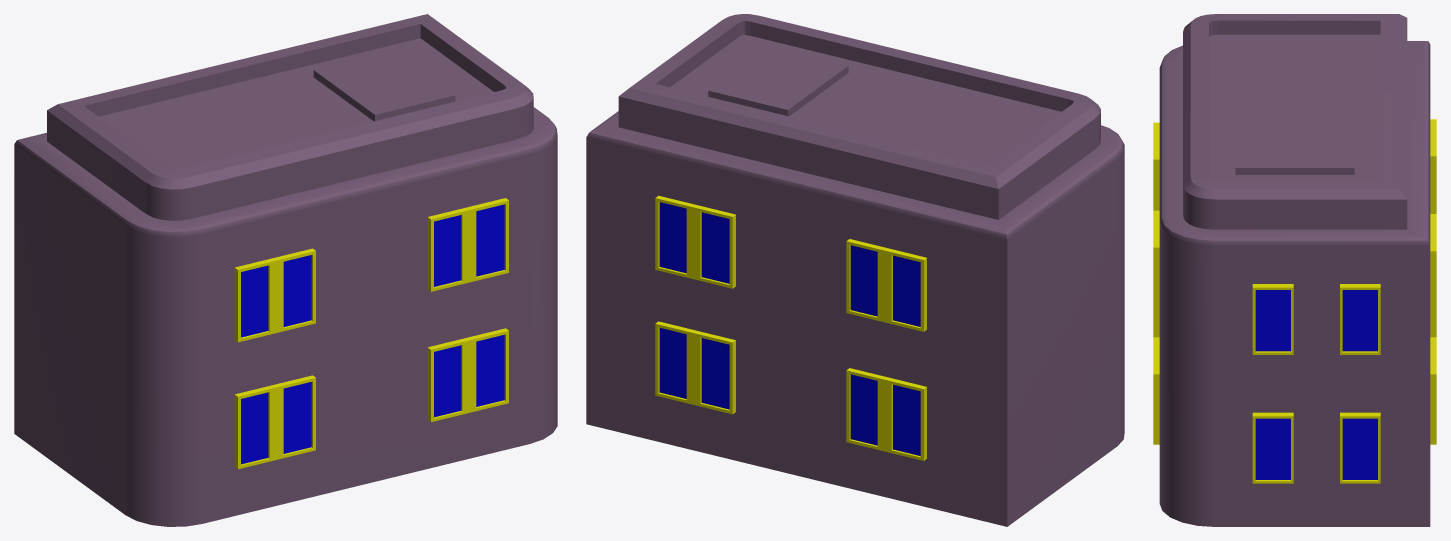
3 renders of one model, left to right at view 1: azimuth 30°, elevation 25°; view 2: azimuth 150°, elevation 25°; view 3: azimuth 270°, elevation 25°, orthographic. The views are drawn at different scales.
Parts seen in each view (by area): view 1: pCube40, pCube65, pCube67, pCube48, pCube49, pCube45; view 2: pCube40, pCube68, pCube47, pCube66, pCube46, pCube45; view 3: pCube40, pCube45, polySurface42, polySurface40, polySurface41, polySurface39, pCube49, pCube47, pCube66, pCube67, pCube68, pCube48.
Boxes of the visible parts, x1,y1,x2,y2 form: pCube40: (14,14,557,526); pCube65: (234,375,315,469); pCube67: (427,328,508,421); pCube48: (234,248,315,342); pCube49: (427,198,508,291); pCube45: (313,50,455,121); pCube40: (586,14,1124,526); pCube68: (846,239,926,331); pCube47: (655,321,735,414); pCube66: (655,195,735,288); pCube46: (846,368,926,460); pCube45: (708,46,848,116); pCube40: (1159,14,1430,526); pCube45: (1235,130,1354,174); polySurface42: (1252,412,1293,483); polySurface40: (1252,284,1293,354); polySurface41: (1340,412,1380,483); polySurface39: (1340,284,1380,354); pCube49: (1153,210,1159,318); pCube47: (1430,337,1436,444); pCube66: (1430,214,1436,321); pCube67: (1153,337,1159,444); pCube68: (1430,119,1436,213); pCube48: (1153,122,1159,210).
Size of the model in its own units: 5357 by 3971 by 3131.
